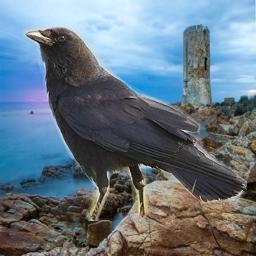Crow: (22, 26, 247, 221)
